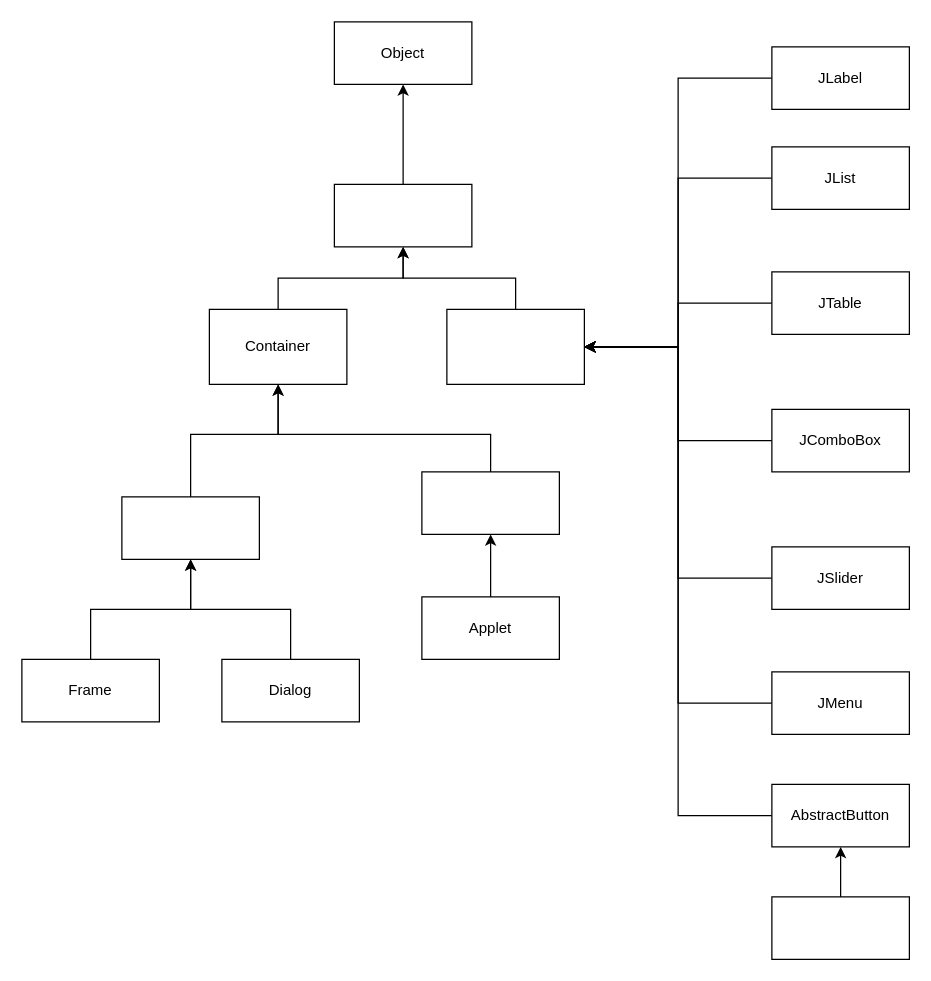
The diagram is 931 pixels wide and 981 high, and some of its shapes have lost their labels. Here are the shapes that lost their labels. From the top down, the centre of each, then its label:
[402,215]: Component
[515,346]: JComponent
[490,502]: Panel
[190,527]: Window
[840,927]: JButton
